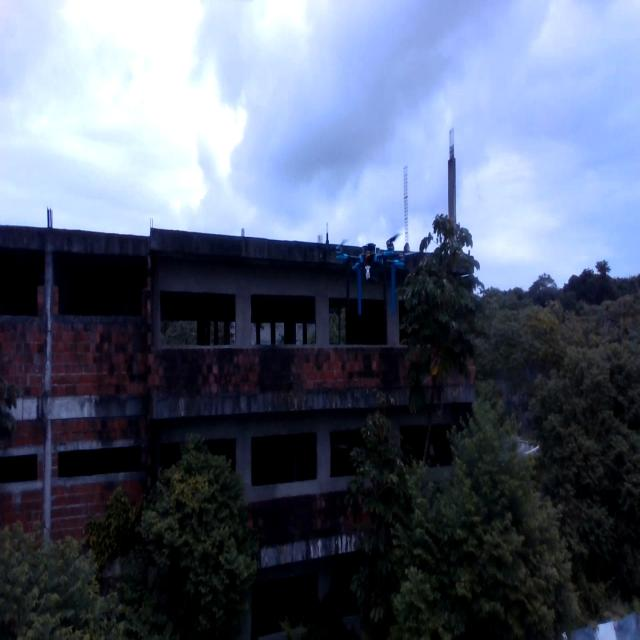-uav-: (325, 215, 443, 317)
